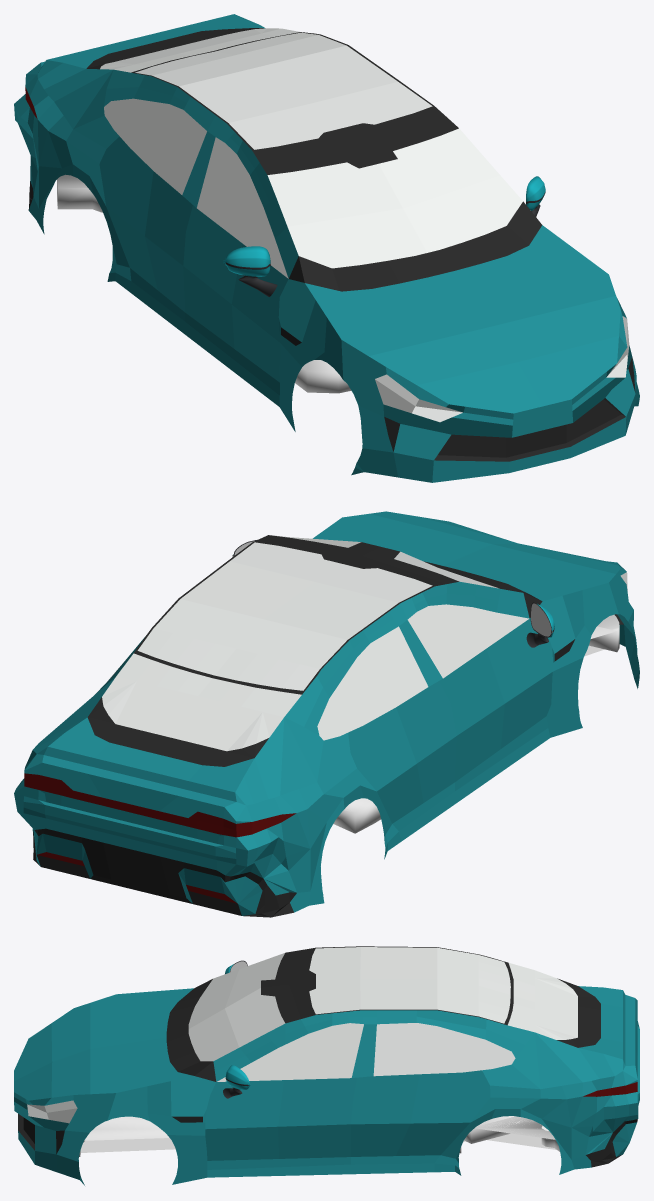
File: SU7_carroceria.fbx
3 views of the same model, one above another, from view 1: azimuth 30°, elevation 25°; view 2: azimuth 150°, elevation 25°; view 3: azimuth 270°, elevation 25° (orthographic). The views are drawn at different scales.
Visible parts, largest first — view 1: Carroceria; view 2: Carroceria; view 3: Carroceria.
Boxes of the visible parts, x1=… form: Carroceria: x1=14, y1=14, x2=639, y2=482; Carroceria: x1=14, y1=511, x2=639, y2=917; Carroceria: x1=14, y1=946, x2=639, y2=1185.
Bounding box in the file's own units: 400 × 245 × 896.
